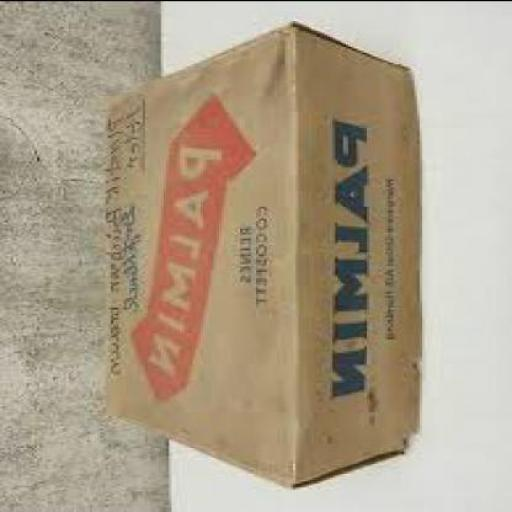cardboard: (97, 20, 420, 485)
